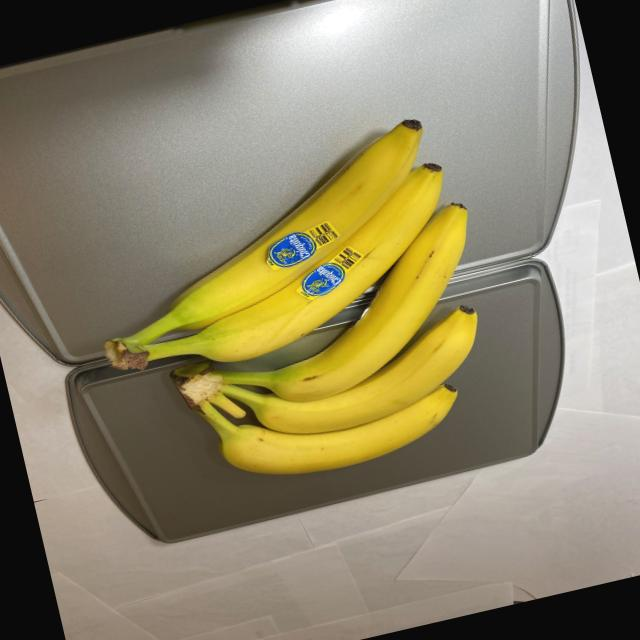banana: (62, 107, 524, 520)
